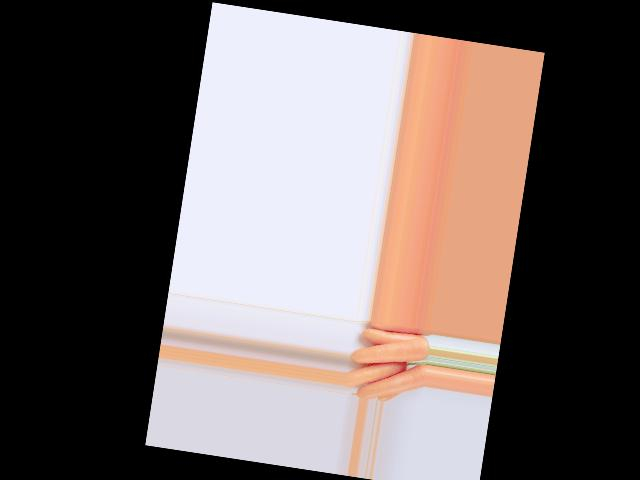carrot: (359, 321, 429, 351)
